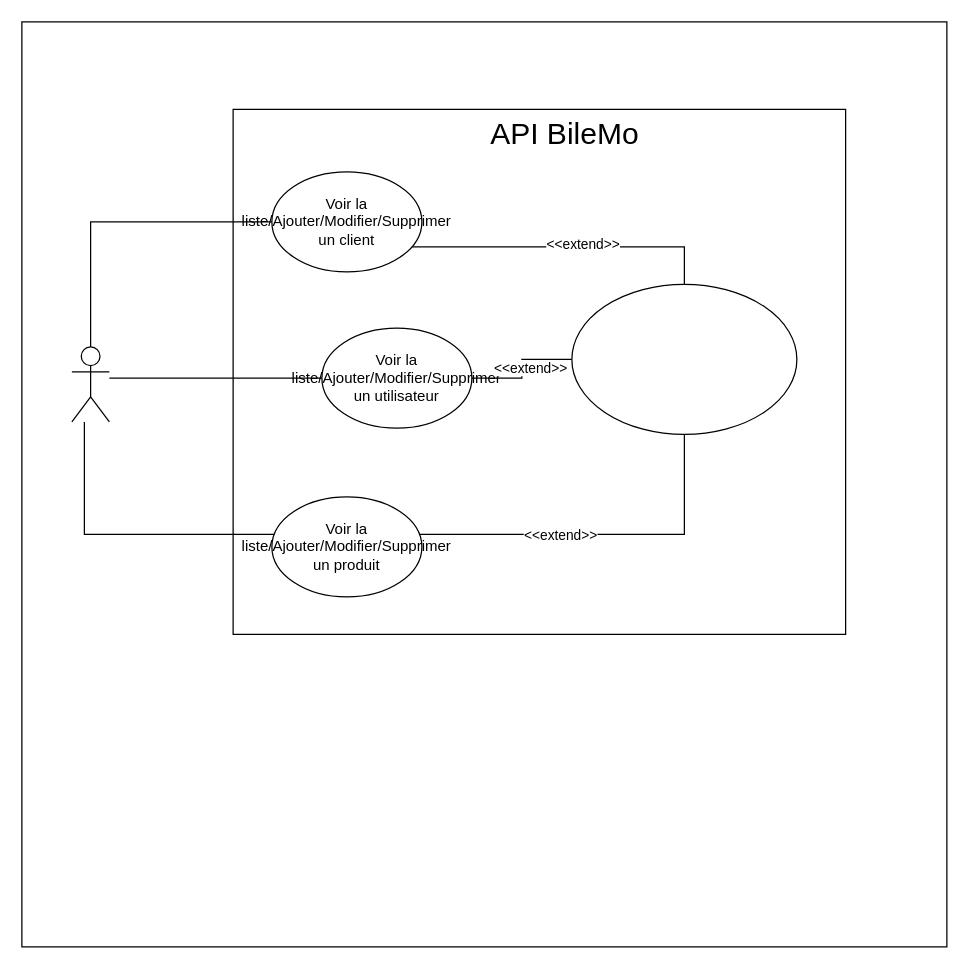
Image size: 969x969. Some labels were removed from this diagram. The centre of each missing label's shape, as x and y in pixels:
Administrateur: point (90, 384)
S'authentifier: point (684, 358)
